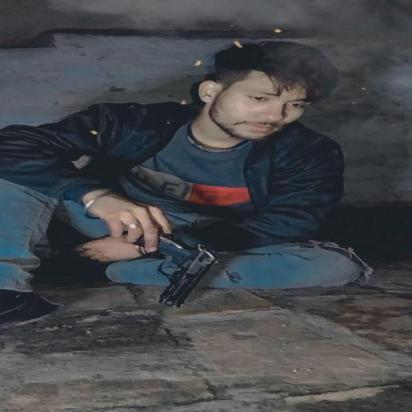Gun: (131, 227, 228, 309)
